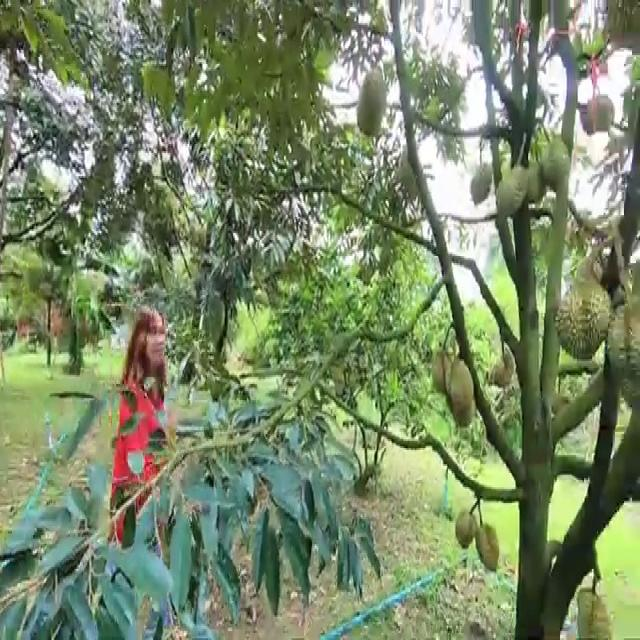durian: (550, 270, 616, 361), (606, 288, 639, 407), (352, 58, 390, 142), (572, 584, 616, 638), (444, 355, 476, 429), (492, 161, 530, 218), (539, 133, 572, 192), (473, 522, 502, 579), (467, 157, 495, 212), (430, 346, 455, 402), (522, 158, 550, 208), (488, 347, 517, 395), (452, 509, 478, 551)
